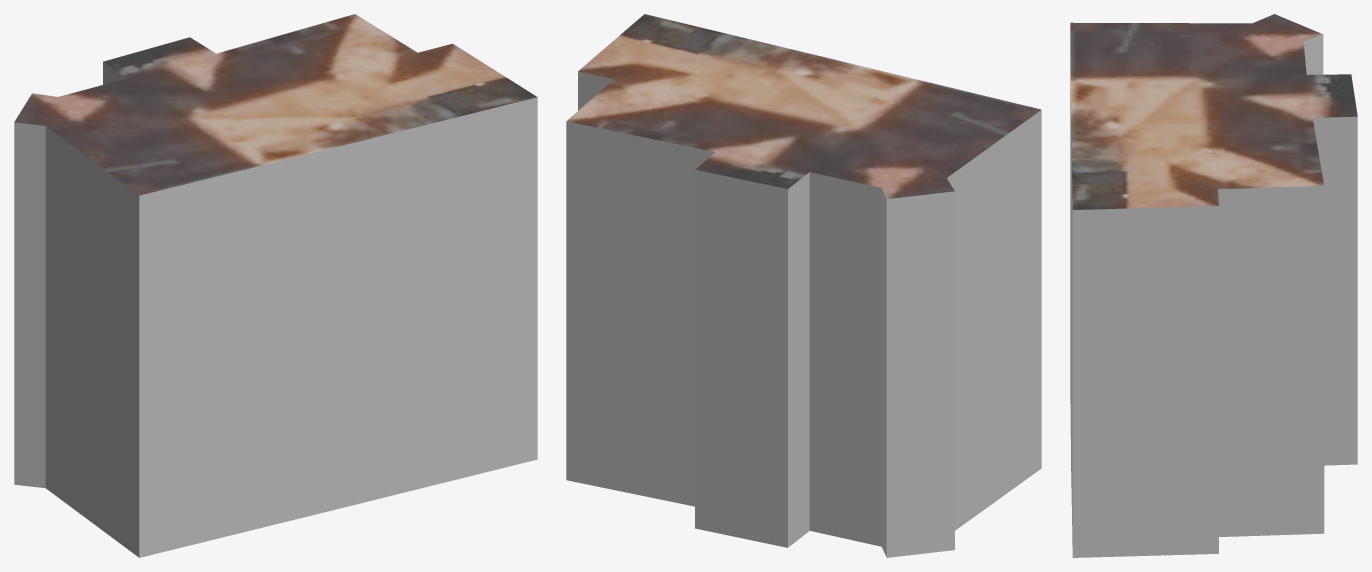
The model's file is DEBW_0010007TxgB.gltf.
3 views of the same model, side by side, from view 1: azimuth 30°, elevation 25°; view 2: azimuth 150°, elevation 25°; view 3: azimuth 270°, elevation 25° (orthographic). The views are drawn at different scales.
Visible parts, largest first — view 1: Z_UP; view 2: Z_UP; view 3: Z_UP.
Part boxes in pixels (x1,y1,x2,y2): Z_UP: (14, 14, 537, 557); Z_UP: (566, 14, 1041, 557); Z_UP: (1070, 14, 1357, 557).
Size of the model in its own units: 22.23 by 18.39 by 13.78.
Materials: 2 (1 with a texture image).
